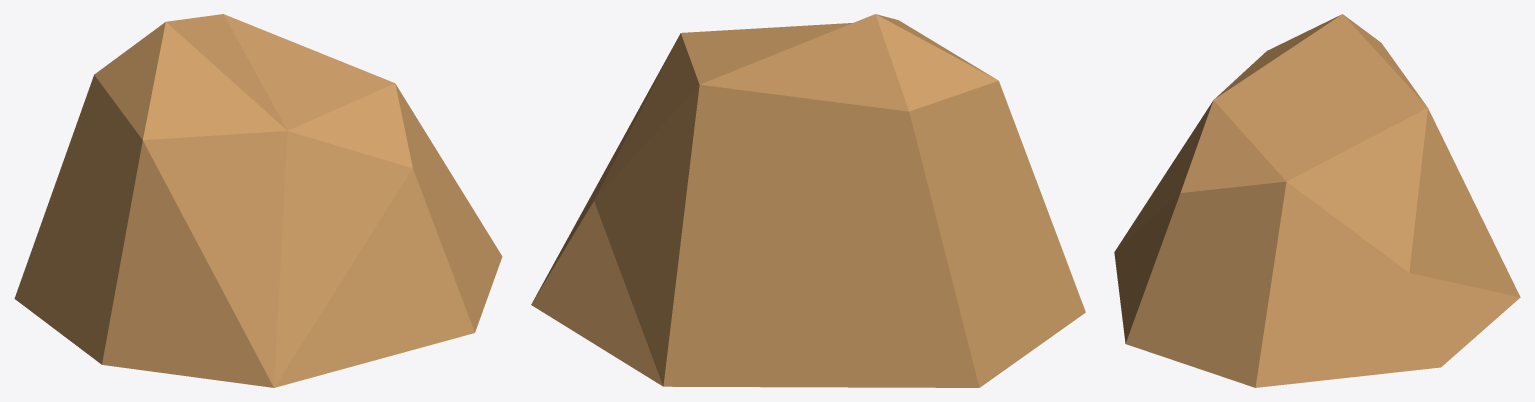
File: decoration_stone_02.glb
3 views of the same model, side by side, from view 1: azimuth 30°, elevation 25°; view 2: azimuth 150°, elevation 25°; view 3: azimuth 270°, elevation 25° (orthographic). The views are drawn at different scales.
Parts seen in each view (by area): view 1: Plane.061; view 2: Plane.061; view 3: Plane.061.
Part boxes in pixels (x1,y1,x2,y2): Plane.061: (14,14,502,387); Plane.061: (531,14,1085,387); Plane.061: (1114,14,1520,387).
Size of the model in its own units: 15.74 by 9.88 by 14.8.
1 material, 1 textured.
